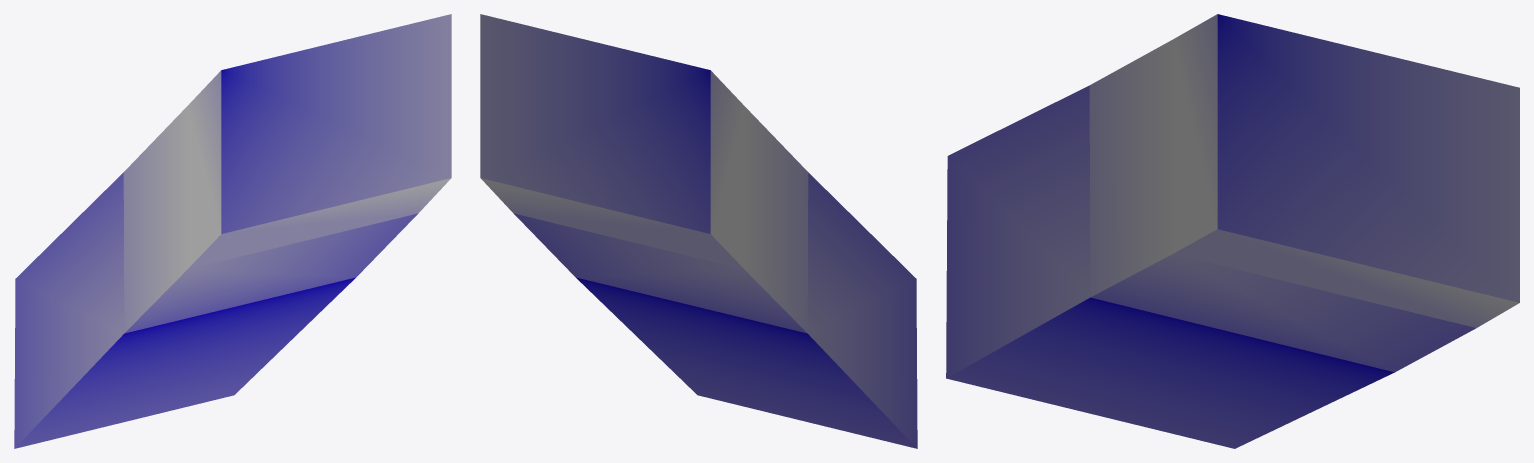
The model's file is OutSideStand_U_Shadow.fbx.
3 renders of one model, left to right at view 1: azimuth 30°, elevation 25°; view 2: azimuth 150°, elevation 25°; view 3: azimuth 330°, elevation 25°, orthographic. The views are drawn at different scales.
Visible parts, largest first — view 1: OutSideStand_U_Shadow; view 2: OutSideStand_U_Shadow; view 3: OutSideStand_U_Shadow.
Boxes of the visible parts, x1=… form: OutSideStand_U_Shadow: x1=14, y1=14, x2=451, y2=448; OutSideStand_U_Shadow: x1=480, y1=14, x2=917, y2=448; OutSideStand_U_Shadow: x1=946, y1=14, x2=1519, y2=448.
Size of the model in its own units: 6.3 by 4.52 by 8.8e-07.
